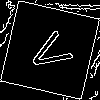V: (25, 25, 82, 77)
